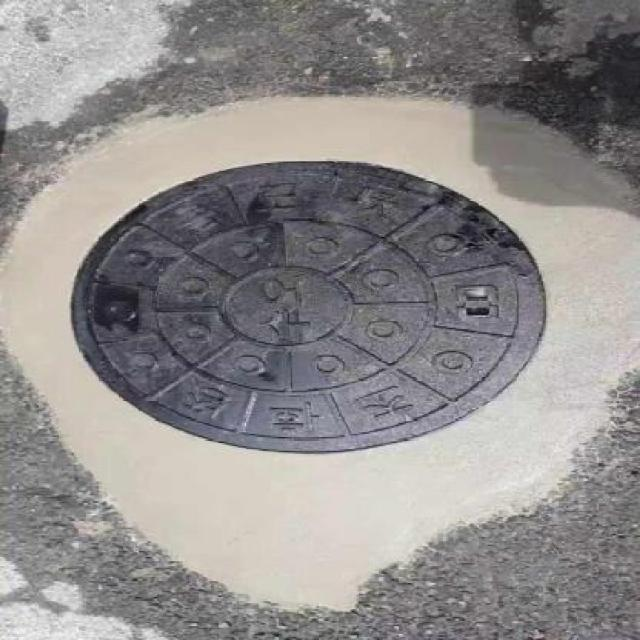Sewer Cover: (50, 158, 556, 461)
